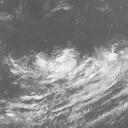cyclone: (17, 47, 93, 94)
